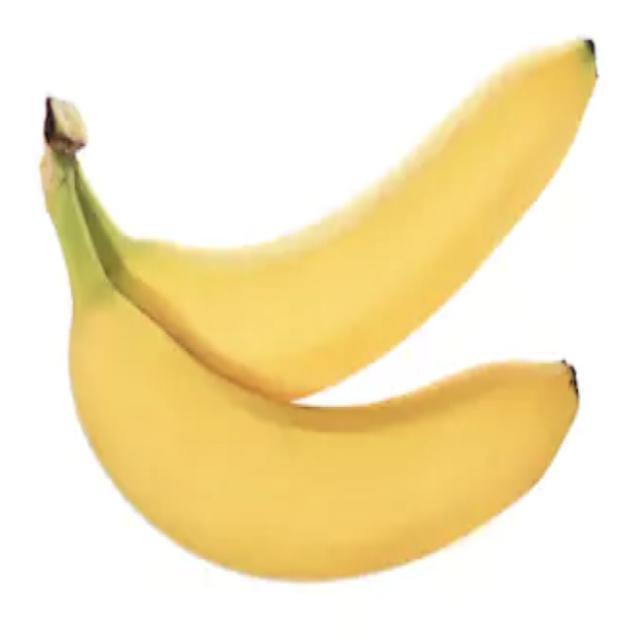Banana: (37, 34, 599, 582)
